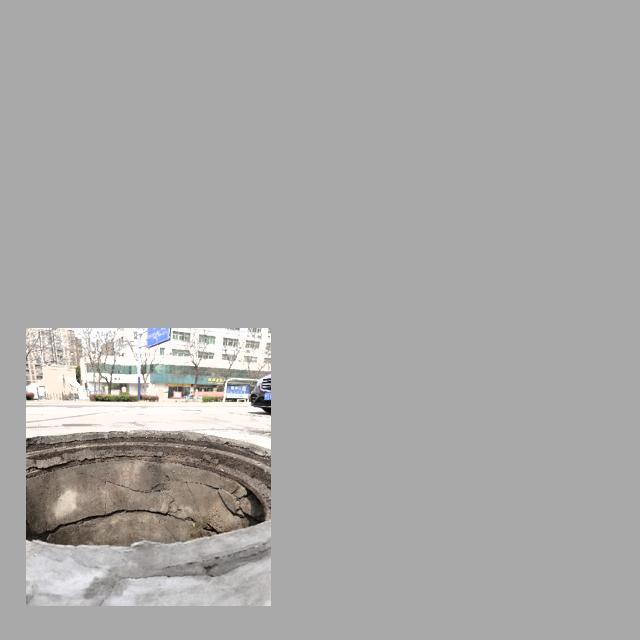lose: (26, 421, 270, 568)
